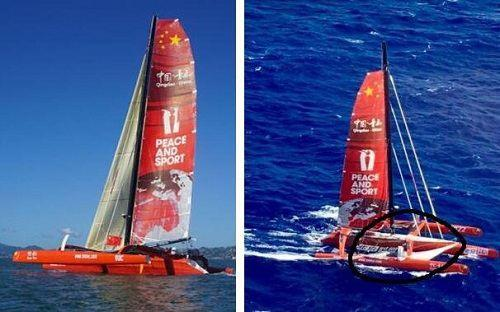fanchuan: (20, 21, 208, 279), (314, 40, 491, 273)
